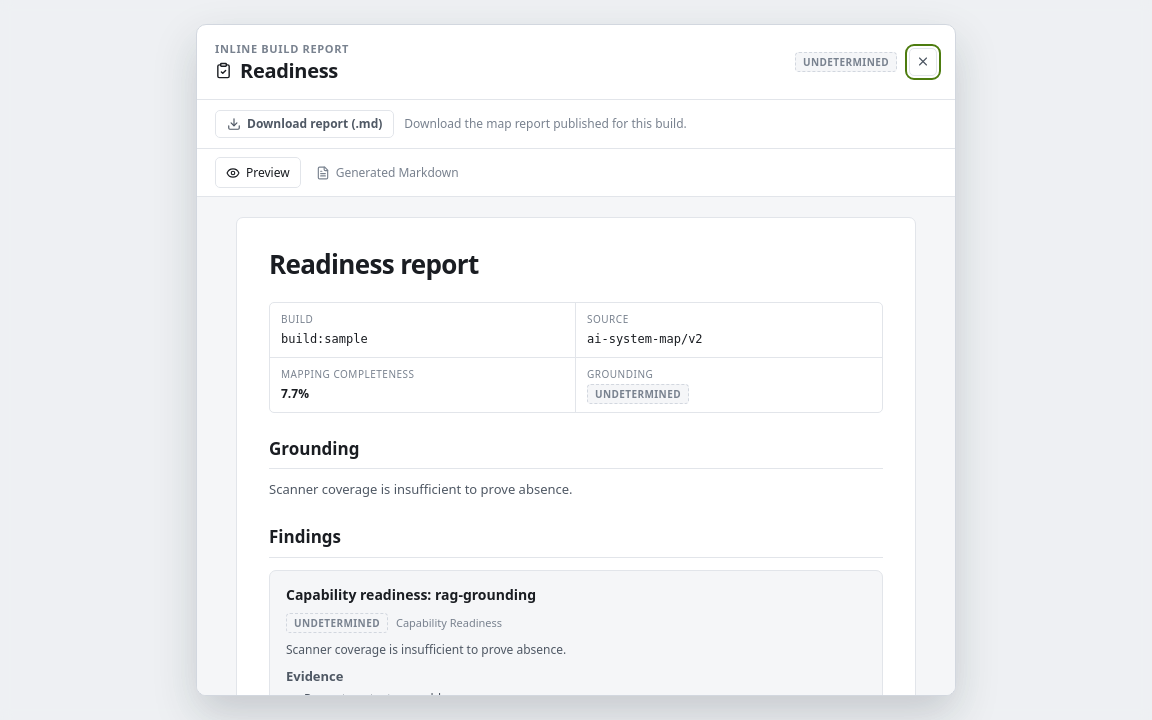
Test: ReadinessPanel build report download › settles when the selected build has vanished
Step 1. Click the button "Download report (.md)" → (305,124), box [215,110,394,138]
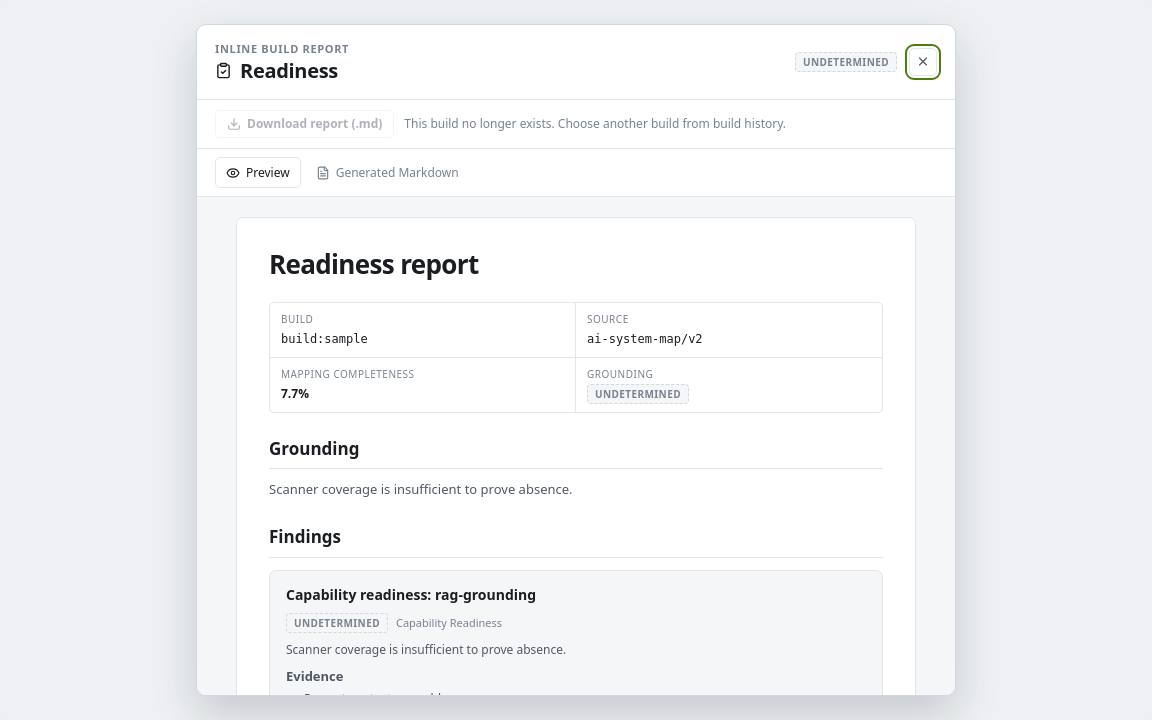
Result: the text "This build no longer exists. Choose another build from build history." is shown at [404,116,786,132]
Result: the button "Download report (.md)" is disabled at [215,110,394,138]
